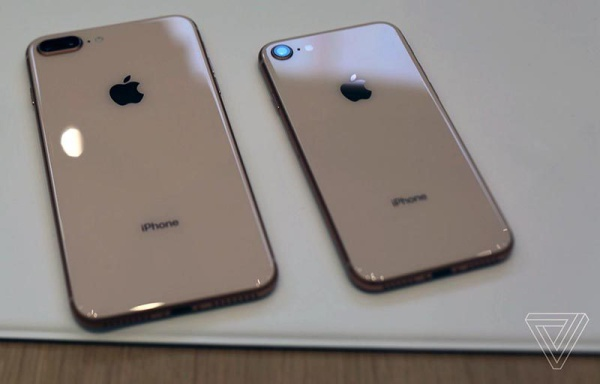apple: (101, 69, 153, 113), (337, 68, 385, 107)
